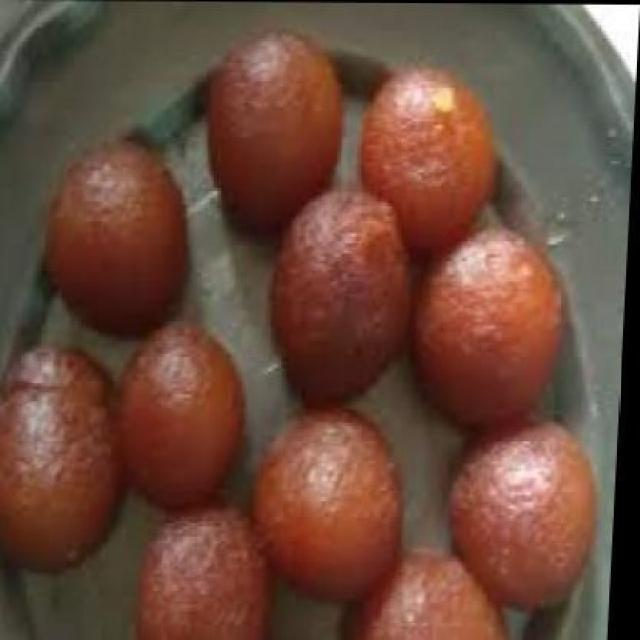gulab_jamun: (269, 191, 422, 411), (410, 225, 572, 429), (0, 348, 135, 577), (449, 417, 606, 611), (252, 411, 412, 600), (45, 146, 197, 339), (206, 35, 348, 237), (356, 72, 498, 260), (118, 328, 254, 509), (144, 503, 282, 640), (351, 552, 520, 640)
